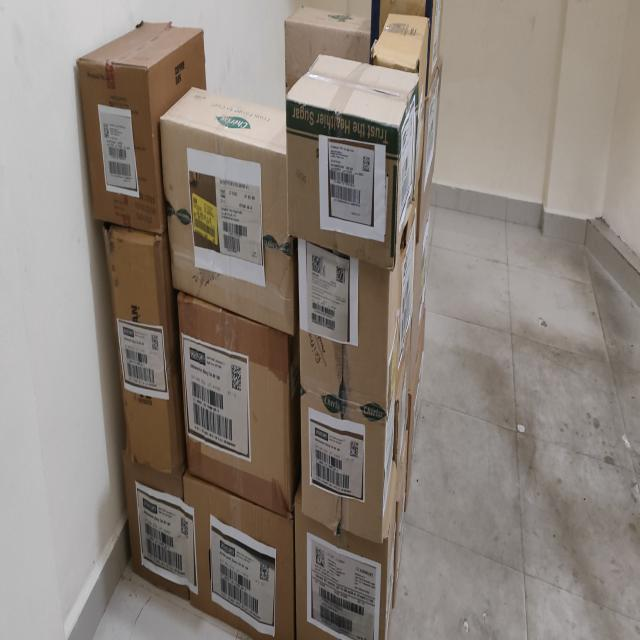BoxFace: (160, 89, 299, 336), (299, 242, 400, 542), (178, 292, 301, 514), (286, 56, 415, 267), (104, 225, 186, 475), (184, 472, 295, 639), (78, 25, 166, 233), (295, 492, 394, 639), (124, 453, 198, 597)
